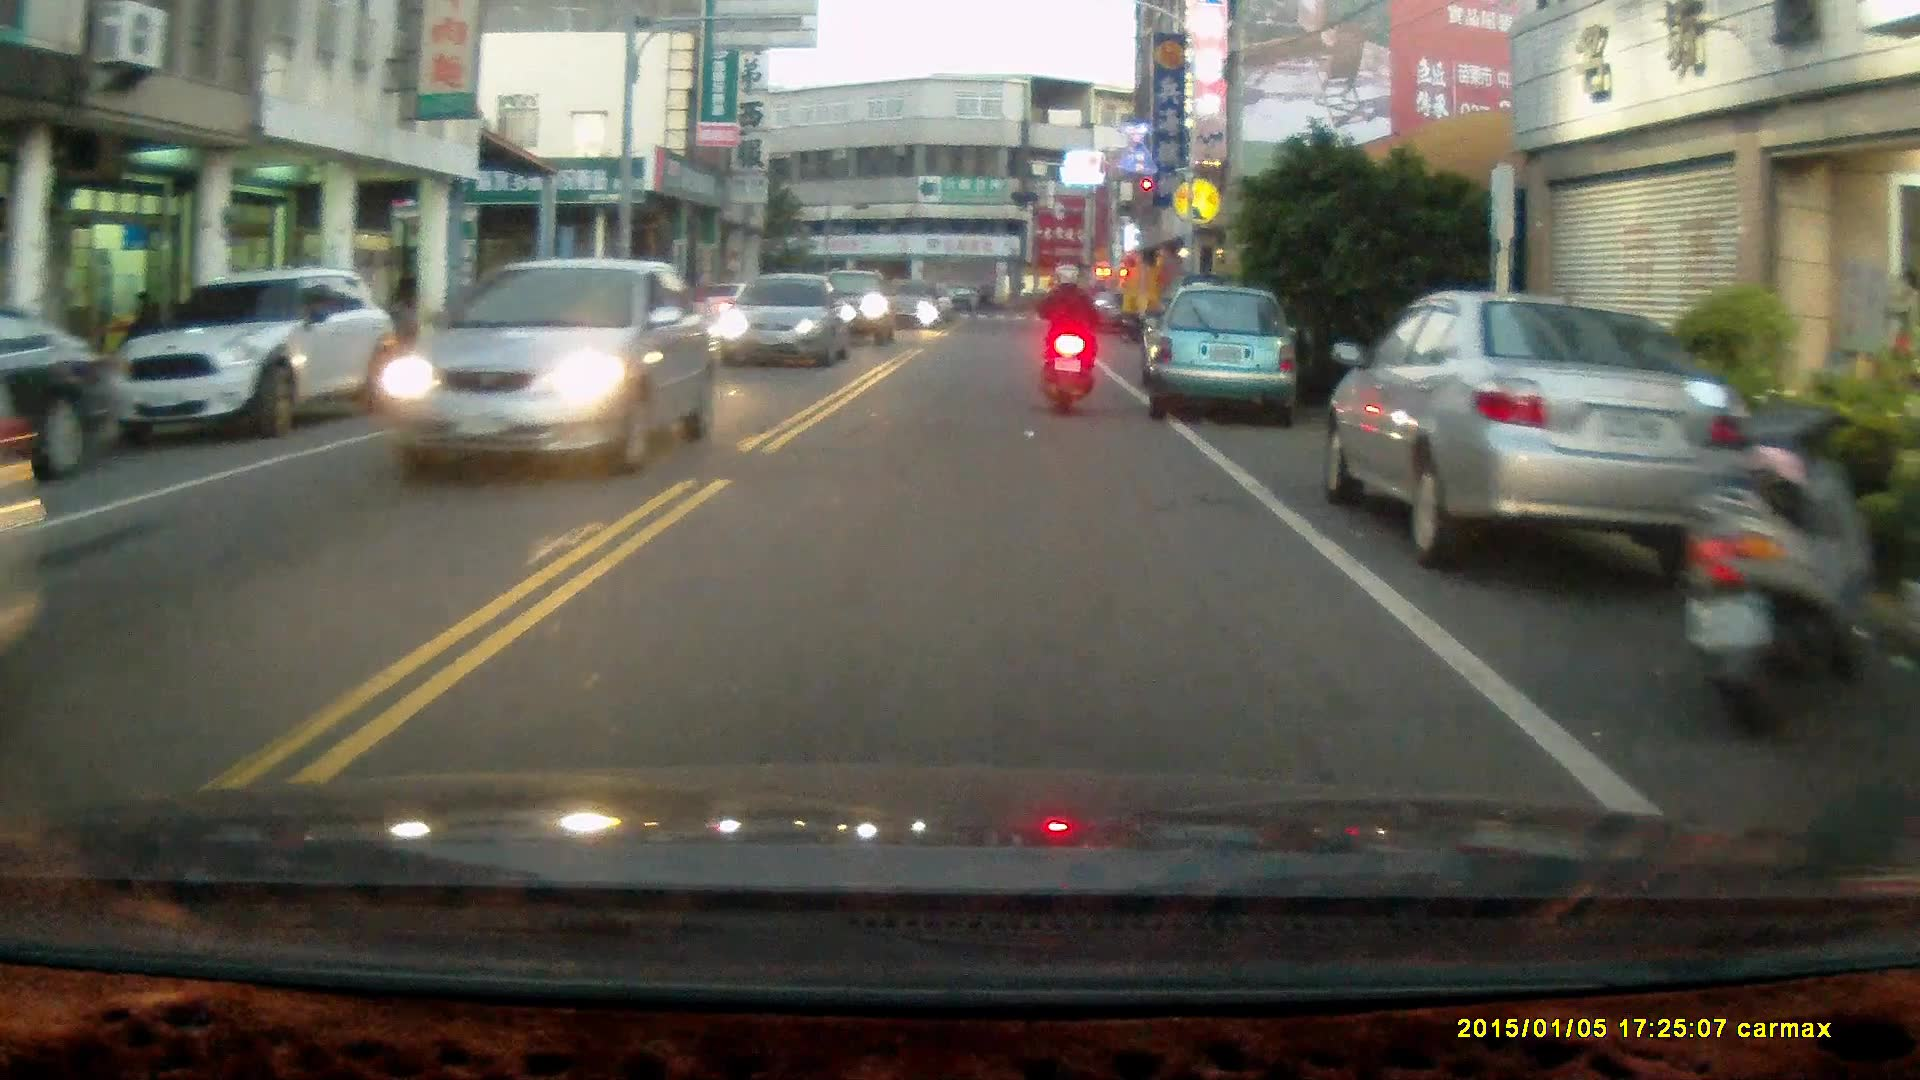pedestrian: (124, 288, 161, 360)
rider: (1034, 258, 1107, 416)
vehicle: (1323, 293, 1796, 571), (374, 260, 725, 472), (95, 263, 402, 451), (1146, 282, 1305, 429), (715, 274, 847, 372)
